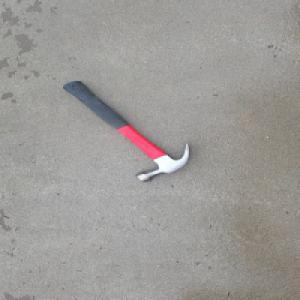Hammer: (57, 79, 189, 182)
